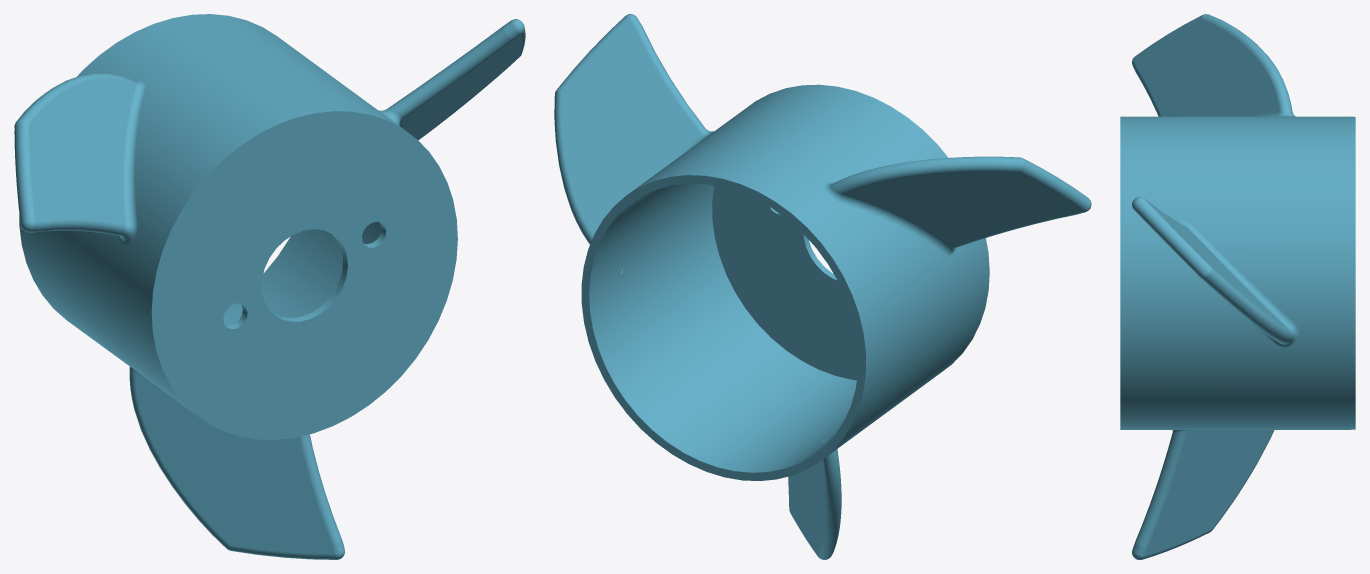
File: ccw_prop.dae
The picture shows the model from 3 angles, left to right: view 1: azimuth 30°, elevation 25°; view 2: azimuth 150°, elevation 25°; view 3: azimuth 270°, elevation 25°; orthographic projection. The views are drawn at different scales.
Parts seen in each view (by area): view 1: T200-CCW; view 2: T200-CCW; view 3: T200-CCW.
Part boxes in pixels (x1,y1,x2,y2): T200-CCW: (14,14,525,559); T200-CCW: (554,14,1091,559); T200-CCW: (1120,14,1355,559).
Size of the model in its own units: 0.0701 by 0.03 by 0.0622.
